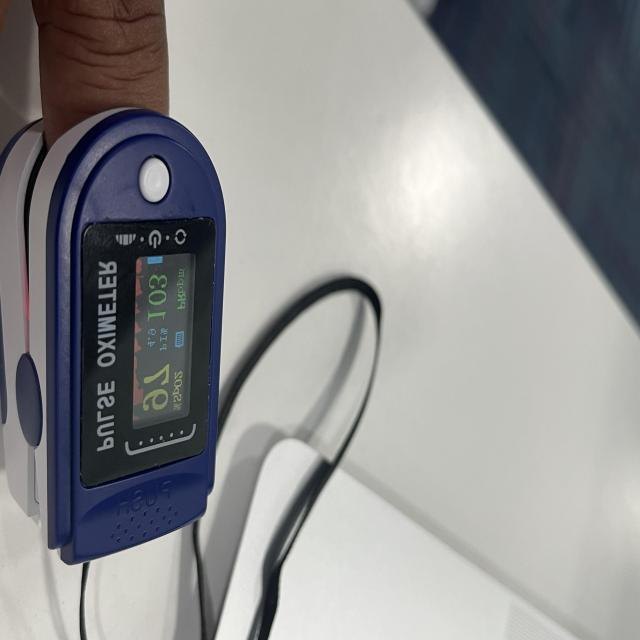spo2: (0, 108, 227, 569)
